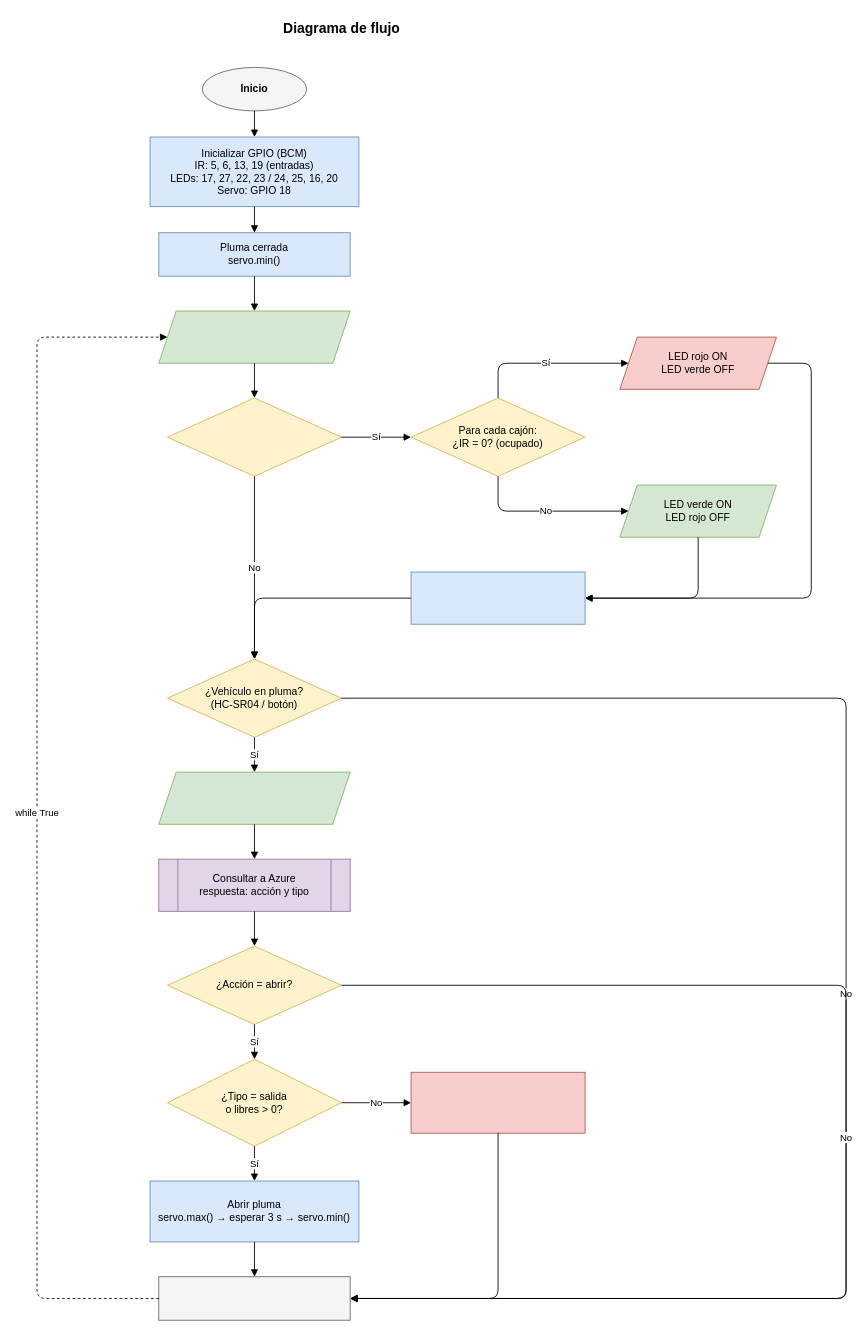
Some shapes in this 868 by 1335 pixel diagram are drawn without their labels. The centre of each missing label's shape, as x and y in pixels:
"Esperar 0.5 s sleep(0.5)" goes at (254,1298).
"Leer sensores IR estado = ocupados()" goes at (254,336).
"Pluma cerrada Estacionamiento lleno" goes at (497,1102).
"Publicar estado (Service Bus / terminal)" goes at (497,597).
"Tomar foto (cámara de placas)" goes at (254,797).
"¿Cambió el estado?" goes at (254,436).
